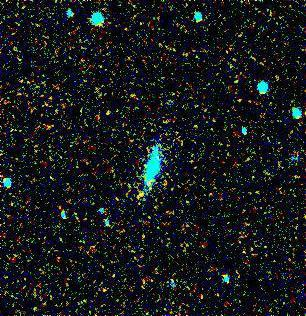star: (121, 182, 151, 212)
